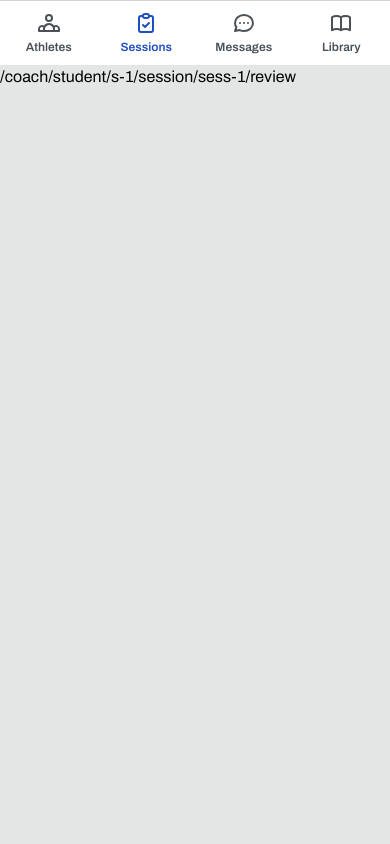
Test case: BottomNav › a tap on the tab that is open › Sessions, on a review, forgets the review and the filter and opens the feed
This screenshot has width=390, height=844.
Click the link "Sessions": coordinates (146, 32) [120,10,172,54]
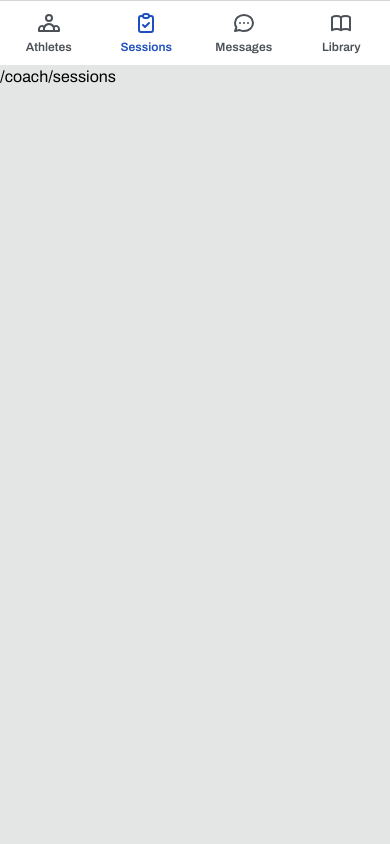
Now the text with test id "location" reads "/coach/sessions", box [0,68,116,85]
